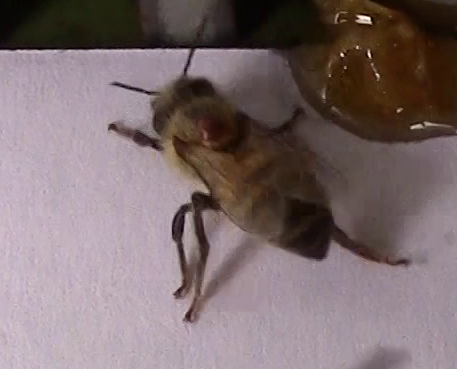Varroa destructor: (189, 108, 234, 149)
